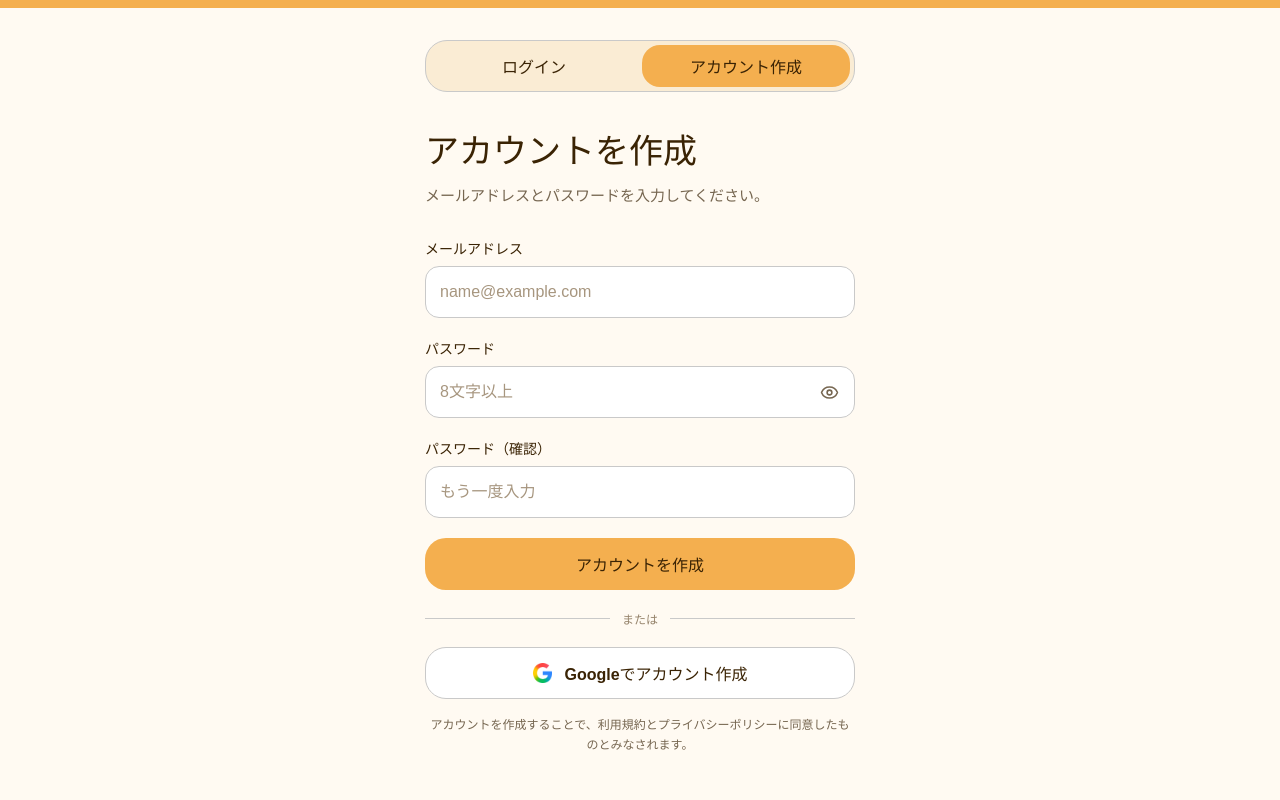
Test: LoginPage › 確認用パスワードが一致しない場合はアカウントを作成しない
Type "user@example.com" into the field labelled "メールアドレス" at (640, 292), box [425,266,855,318]
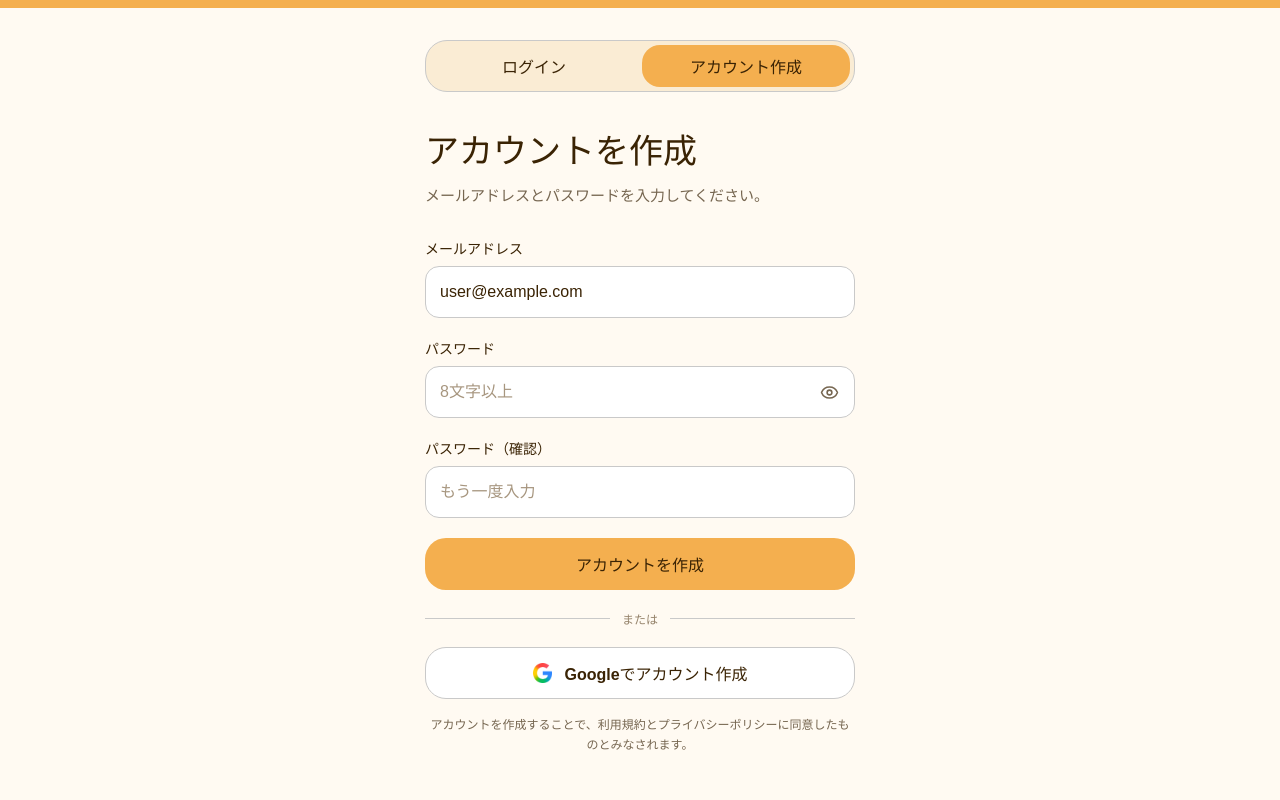
Type "password123" into the password field labelled "パスワード" at (640, 392), box [425,366,855,418]
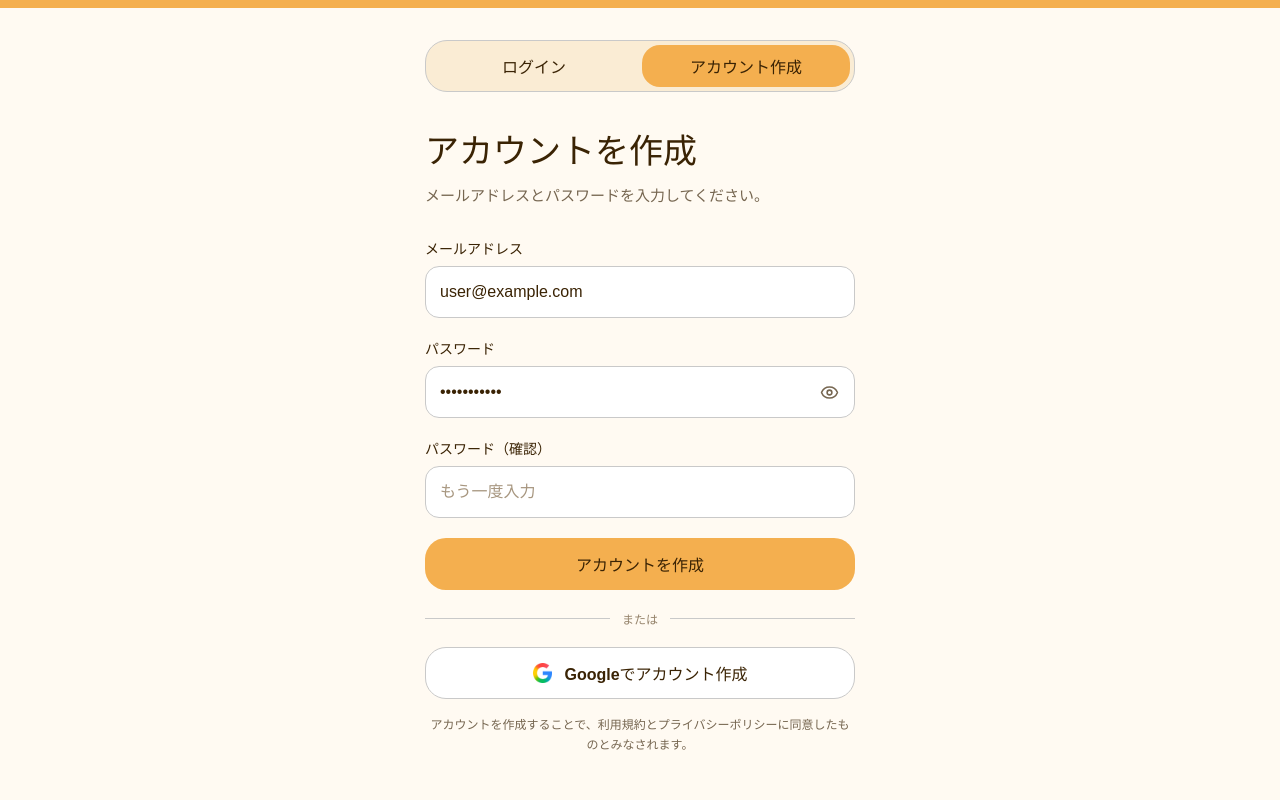
Type "password456" into the password field labelled "パスワード（確認）" at (640, 492), box [425,466,855,518]
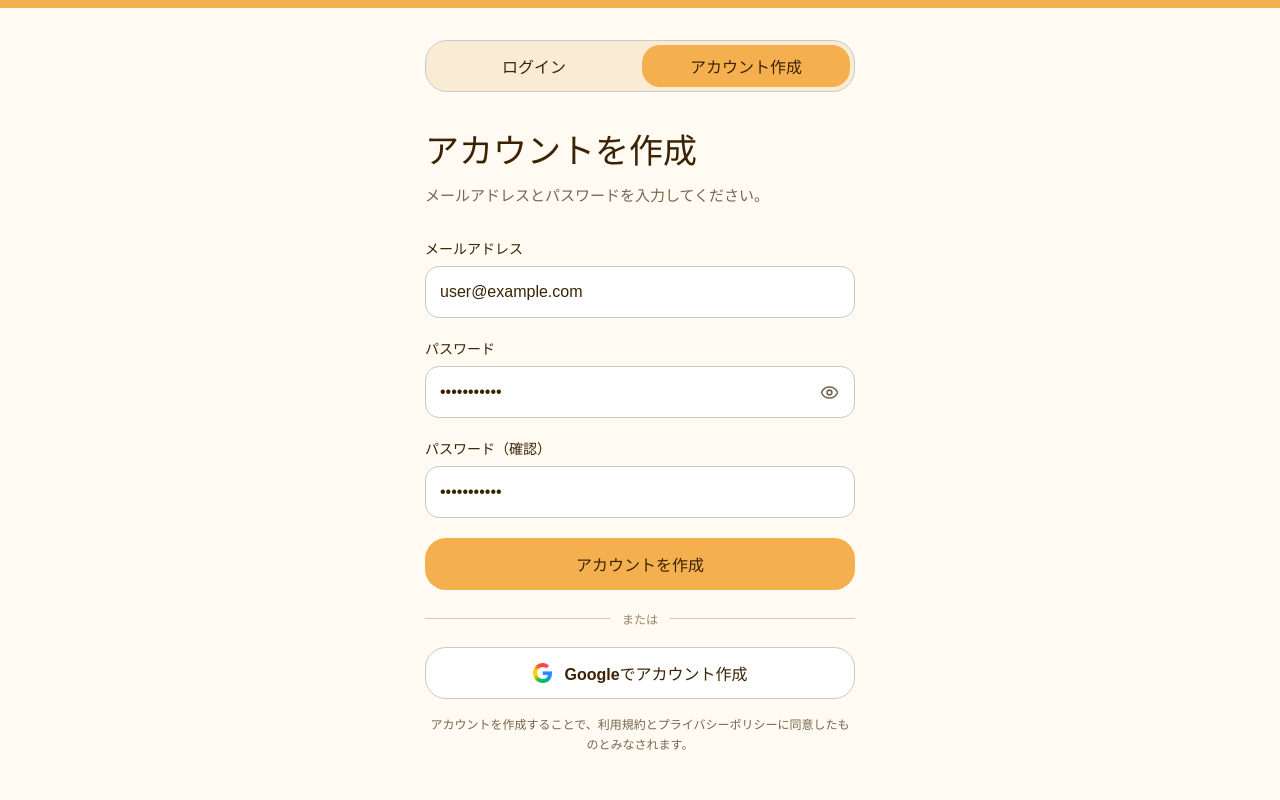
Click the button "アカウントを作成" at (640, 564), box [425,538,855,590]
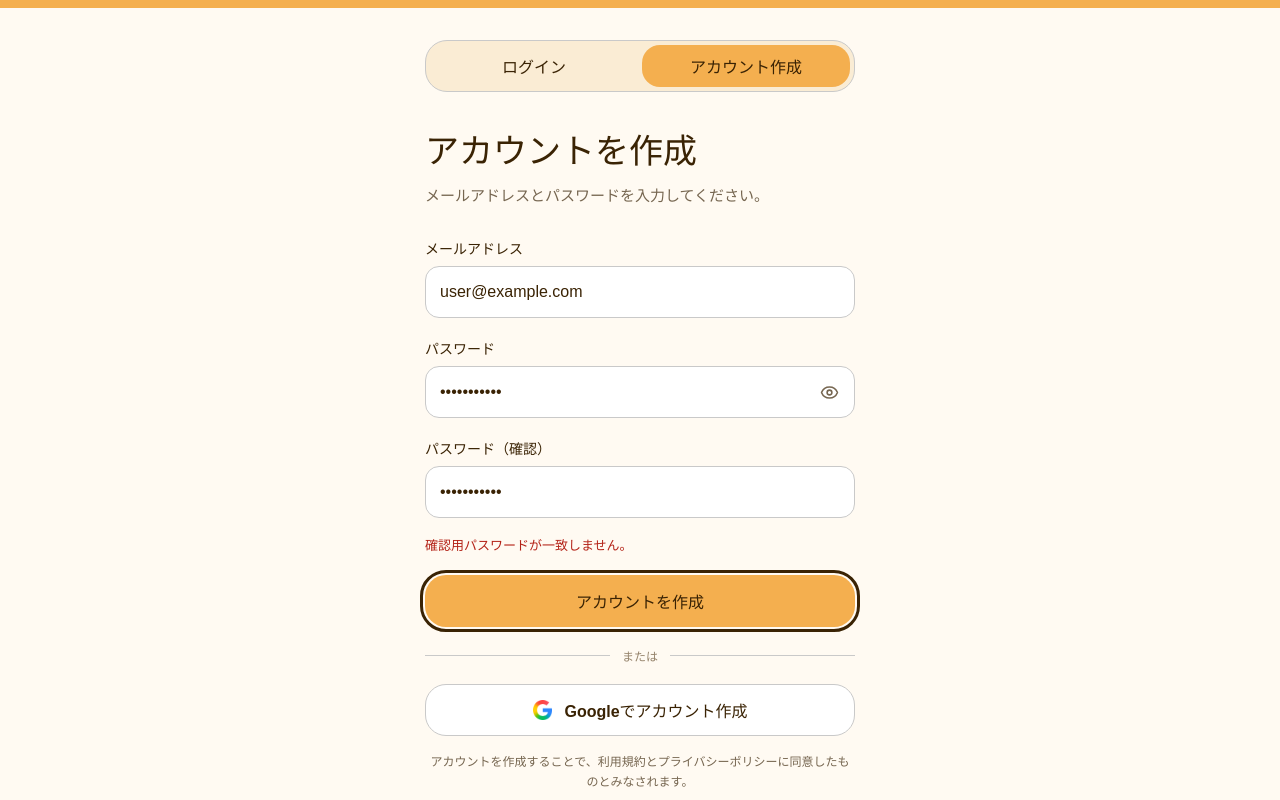
expect the message reads "確認用パスワードが一致しません。": met, box [425,538,633,553]
